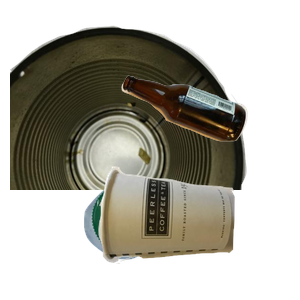glass: (119, 73, 300, 207)
metal: (10, 23, 250, 203)
plastic: (81, 179, 239, 300)
trash: (95, 164, 300, 300)
